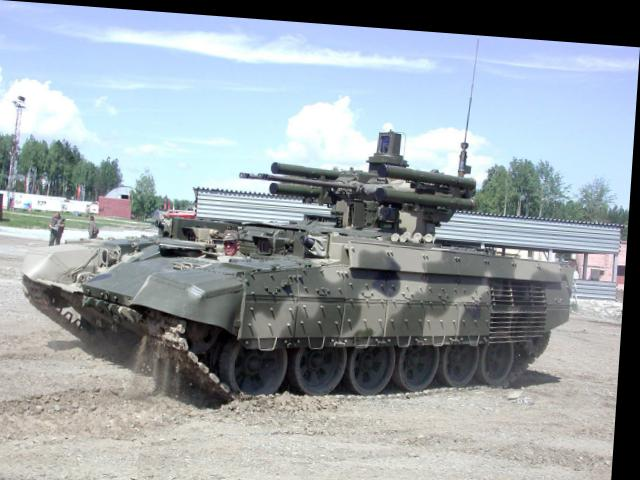other: (45, 196, 72, 258), (86, 203, 106, 245)
tank: (26, 167, 587, 422)
